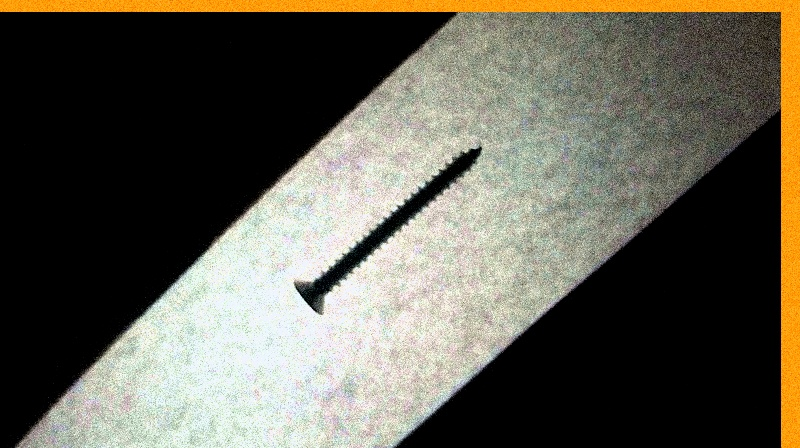S002: (287, 141, 483, 315)
